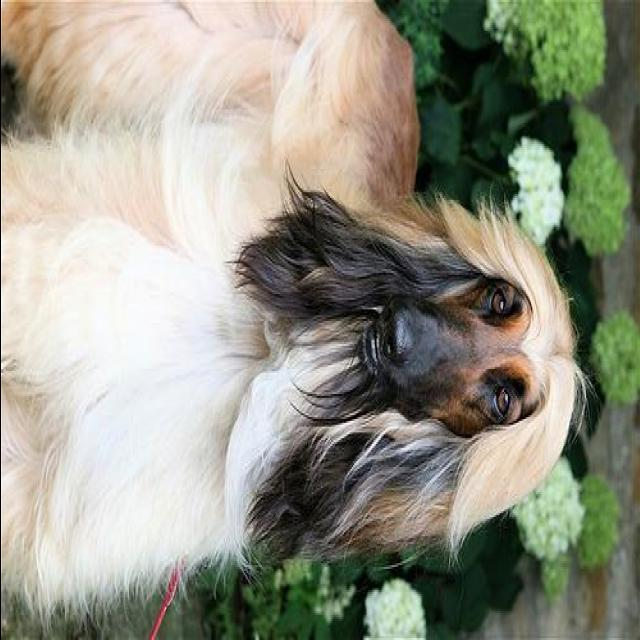afghan_hound: (2, 0, 576, 613)
